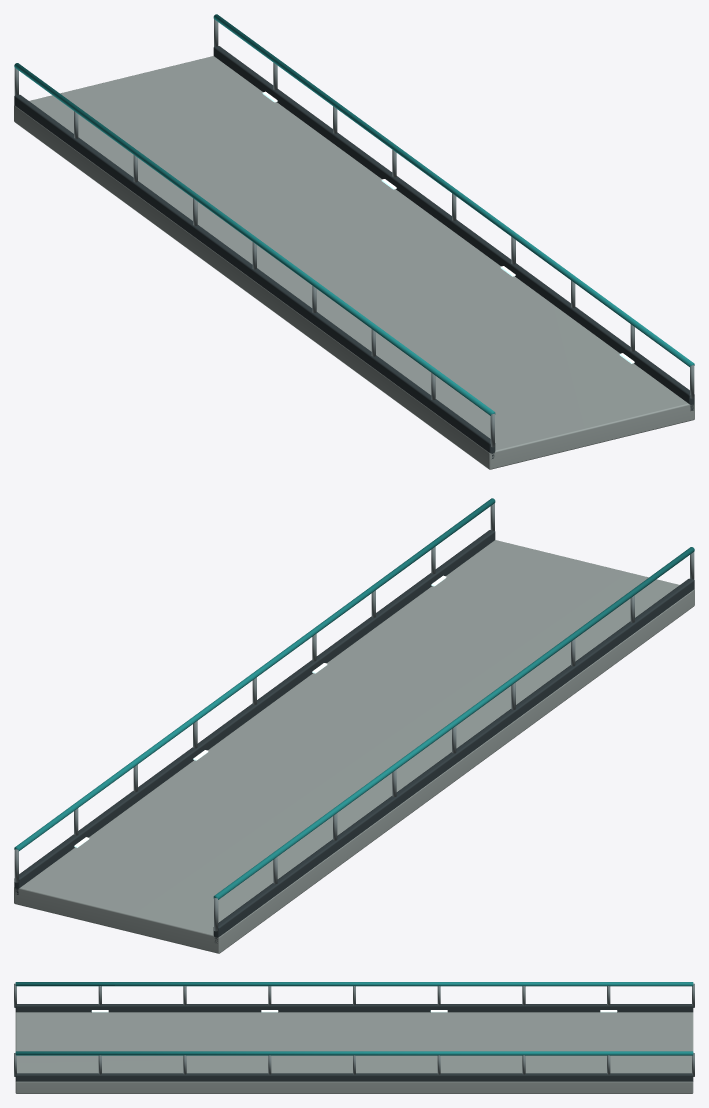
Rendered from skywalk.glb.
3 views of the same model, one above another, from view 1: azimuth 30°, elevation 25°; view 2: azimuth 150°, elevation 25°; view 3: azimuth 270°, elevation 25° (orthographic). The views are drawn at different scales.
Visible parts, largest first — view 1: skywalk; view 2: skywalk; view 3: skywalk.
Boxes of the visible parts, box(x1,y1,x2,y2) form: skywalk: box(14, 14, 694, 469); skywalk: box(14, 498, 694, 953); skywalk: box(14, 982, 694, 1093).
Bounding box in the file's own units: 6 × 1.63 × 24.11.
